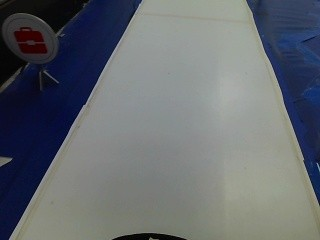company: (0, 13, 58, 65)
